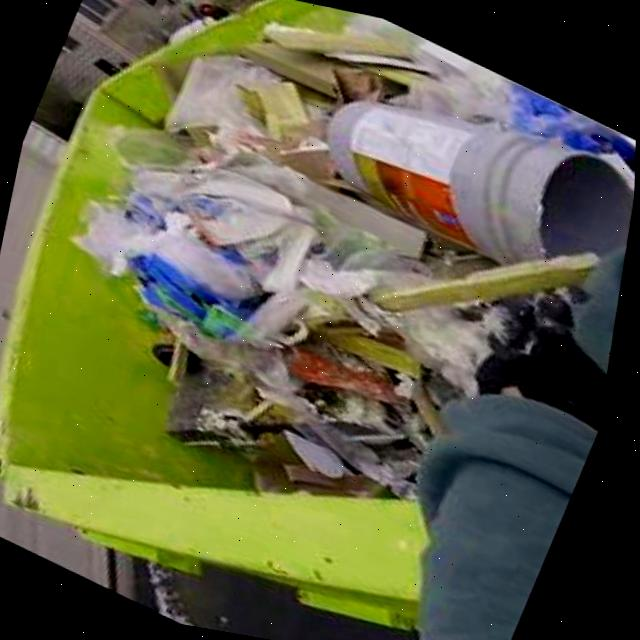Garbage: (77, 12, 637, 495)
Plastic: (332, 100, 636, 260)
